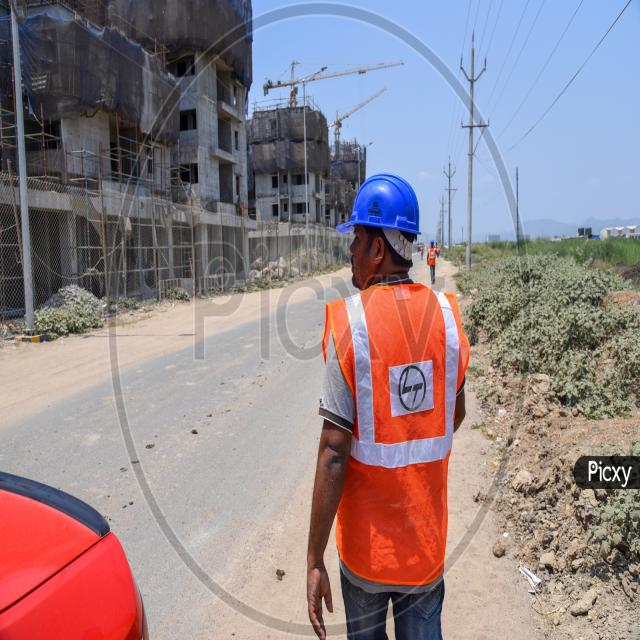helmet: (332, 145, 426, 242)
no-goggles: (348, 226, 378, 250)
vest: (327, 282, 464, 598)
